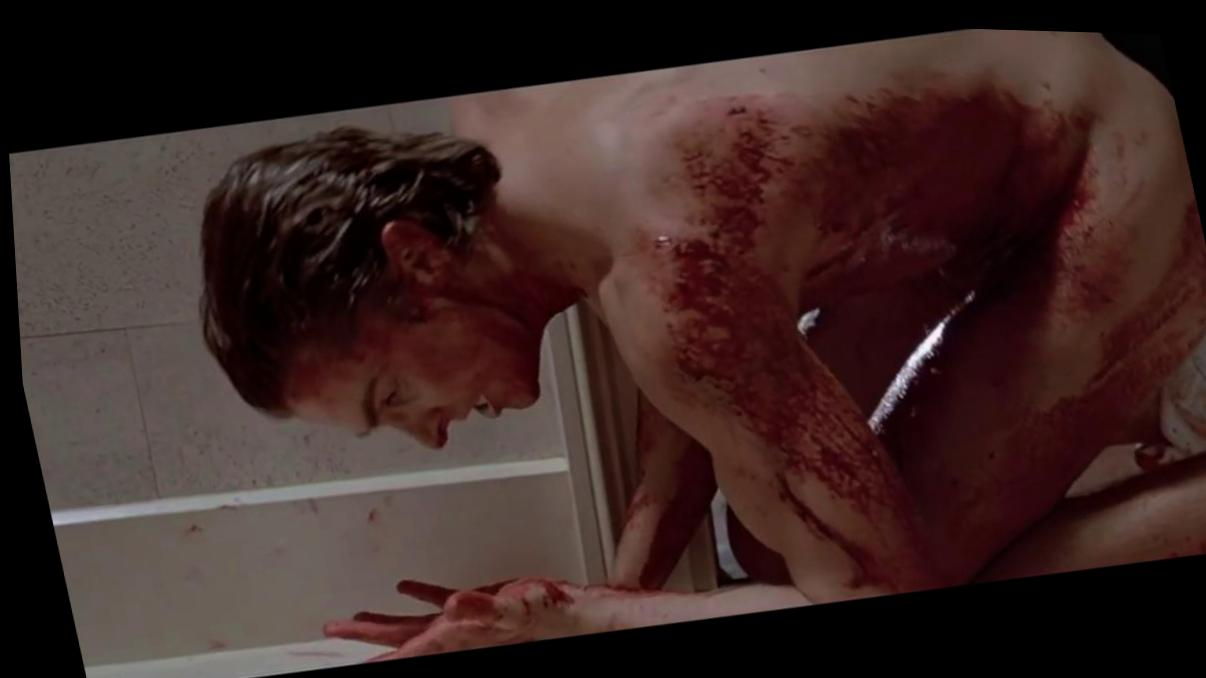Fire: (591, 74, 1206, 595), (278, 200, 561, 444), (318, 574, 594, 656), (613, 391, 680, 540)
